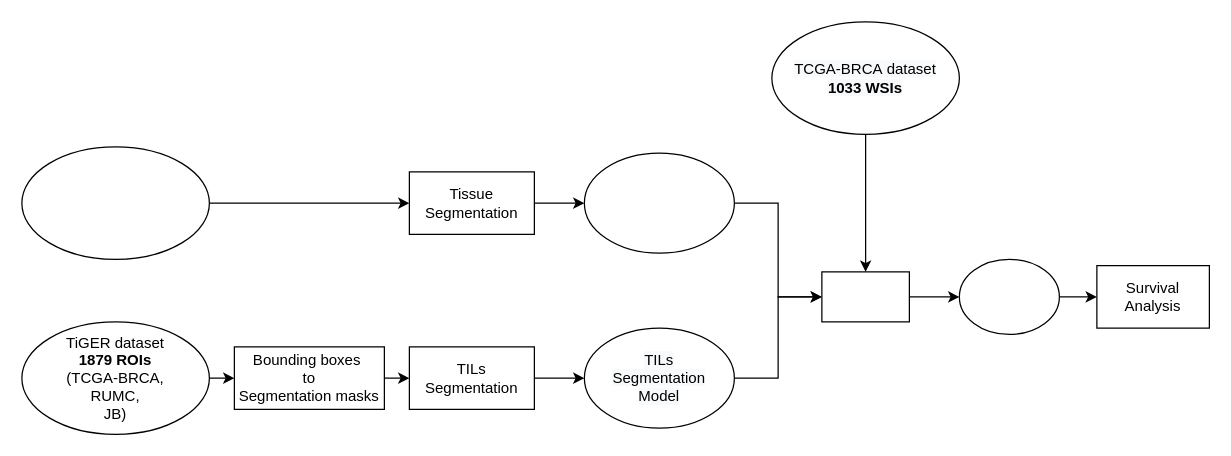
This 1231x456 diagram has some shape labels left out. The centre of each missing label's shape, as x and y in pixels:
Inference: point (865, 296)
TiGER dataset 286 ROIs (TCGA-BRCA, RUMC, JB): point (115, 202)
TILs features: point (1008, 296)
Tissue Segmentation Model: point (658, 202)
